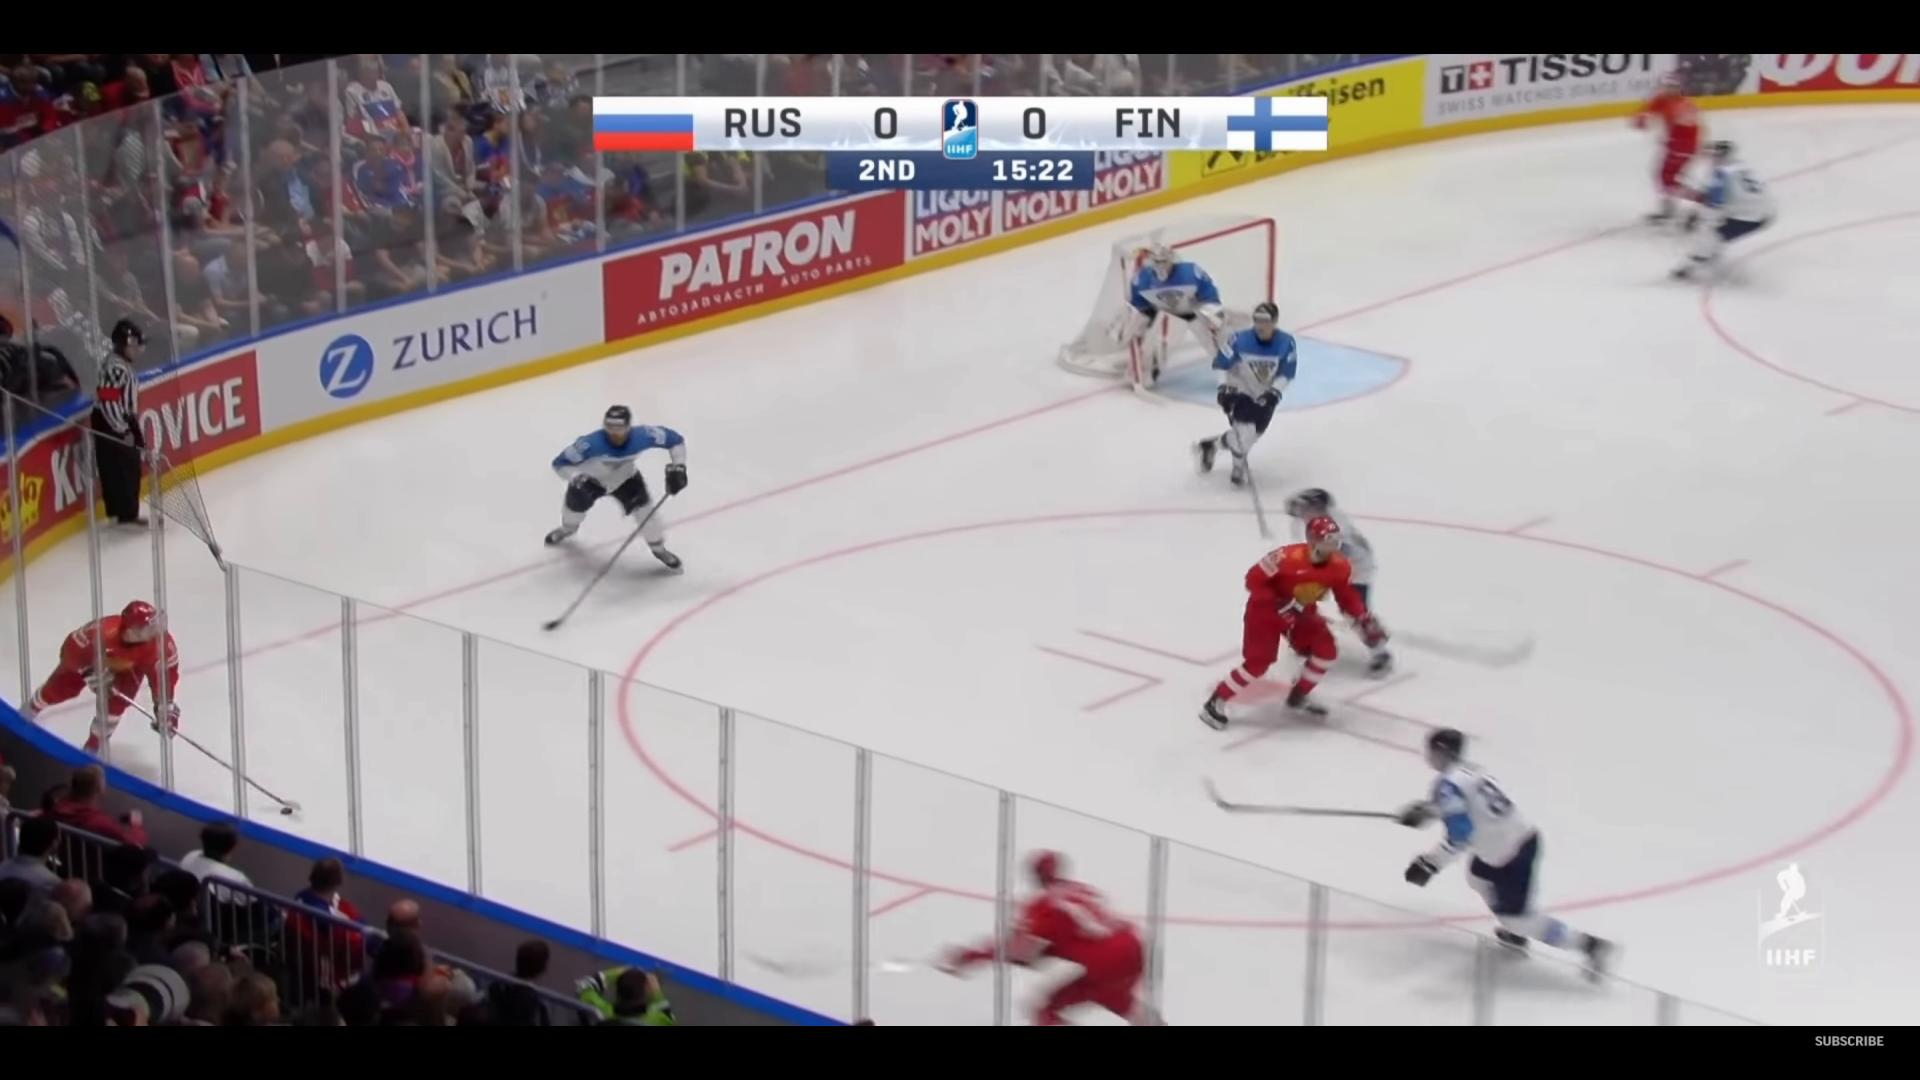puck: (278, 807, 293, 814)
